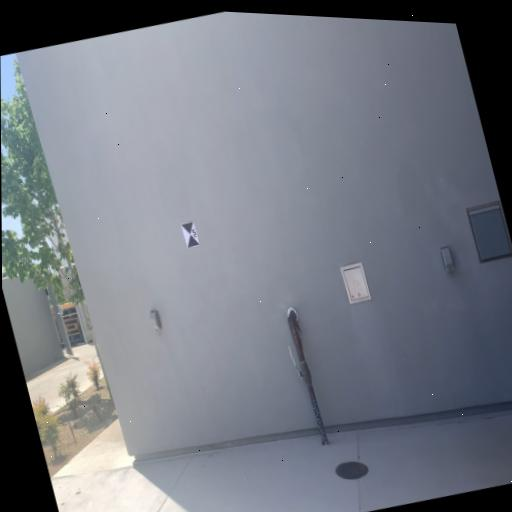target5: (181, 220, 201, 249)
